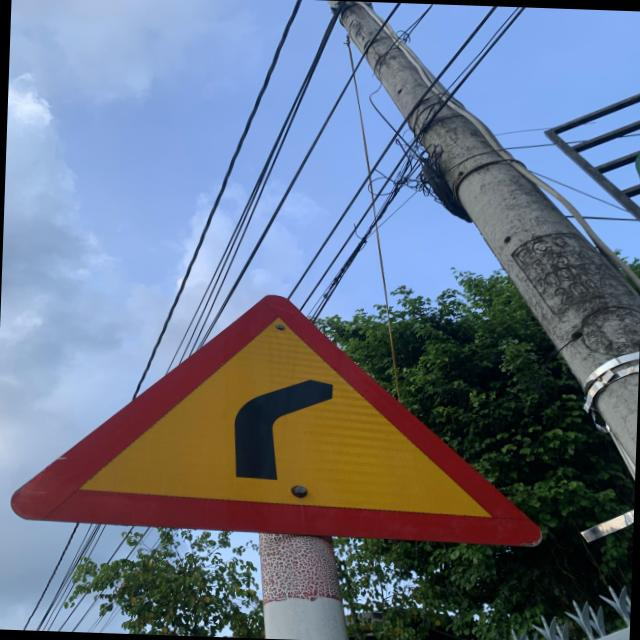Duong_Nguoi_Di_Bo_Cat_Ngang: (4, 280, 546, 548)
